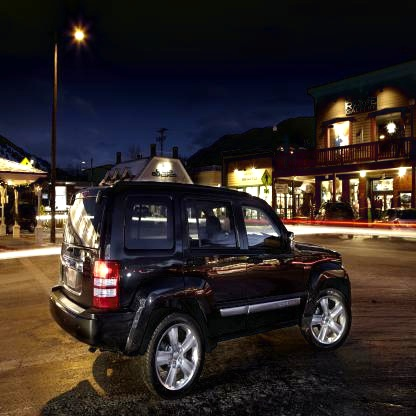Vehicle: (48, 178, 352, 400)
